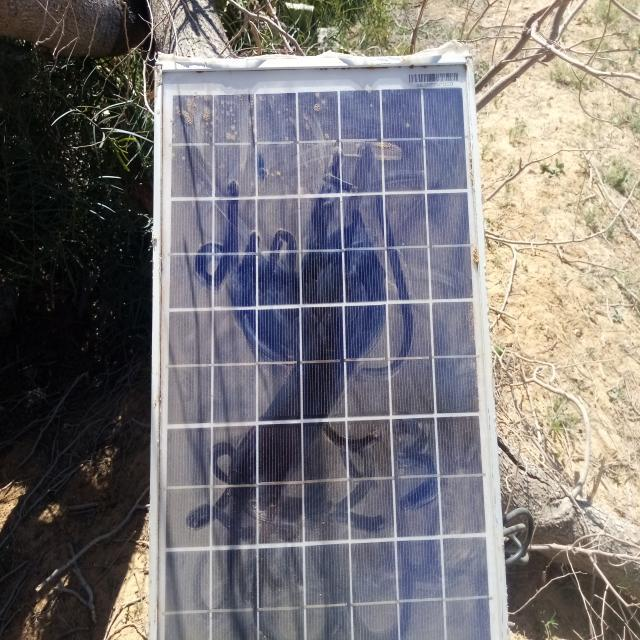faulty: (152, 59, 503, 640)
